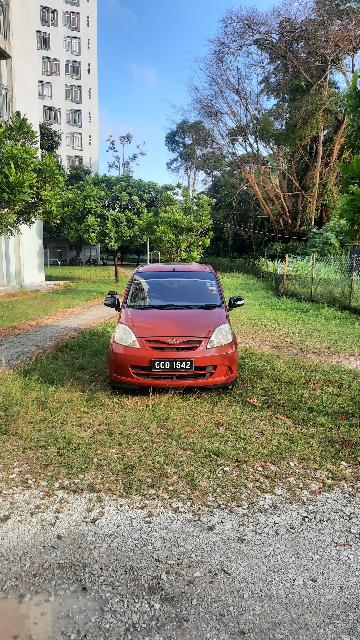License_Plate: (152, 357, 197, 376)
car: (101, 263, 246, 390)
